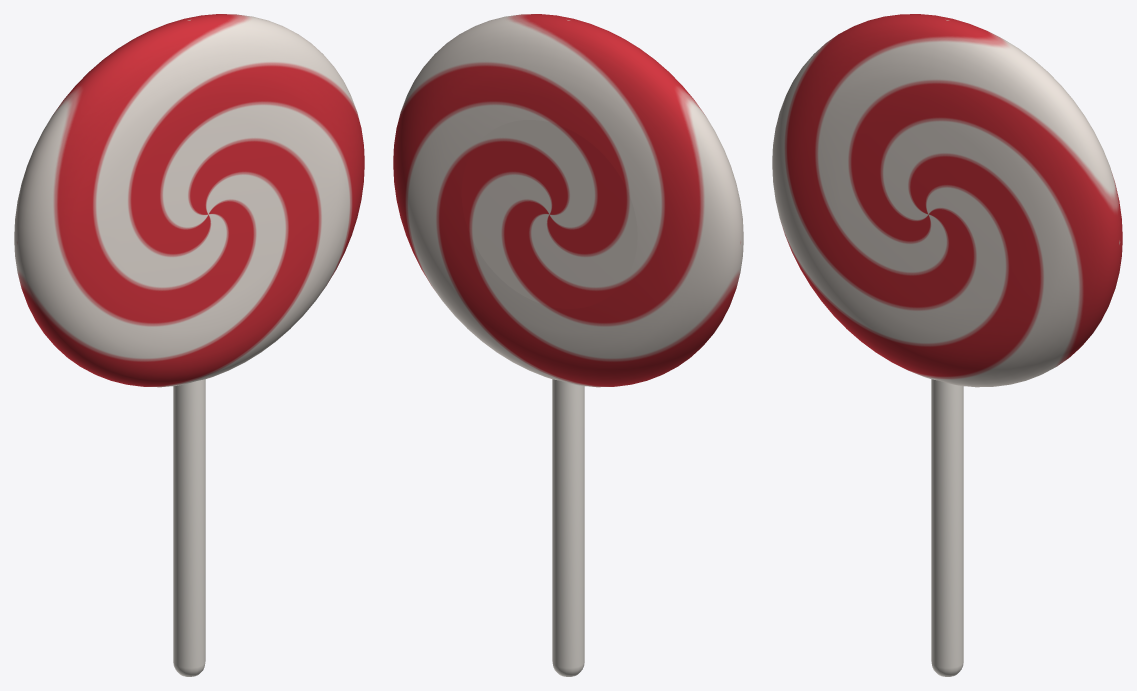
The model's file is lollipop_tree_red.glb.
The picture shows the model from 3 angles, left to right: view 1: azimuth 30°, elevation 25°; view 2: azimuth 150°, elevation 25°; view 3: azimuth 330°, elevation 25°; orthographic projection.
Visible parts, largest first — view 1: lollipop_tree_red; view 2: lollipop_tree_red; view 3: lollipop_tree_red.
Part boxes in pixels (<box>): lollipop_tree_red: <box>14,14,364,676</box>; lollipop_tree_red: <box>393,14,743,676</box>; lollipop_tree_red: <box>772,14,1122,676</box>.
Bounding box in the file's own units: 2.2 × 4 × 0.42.
2 materials, 1 textured.
